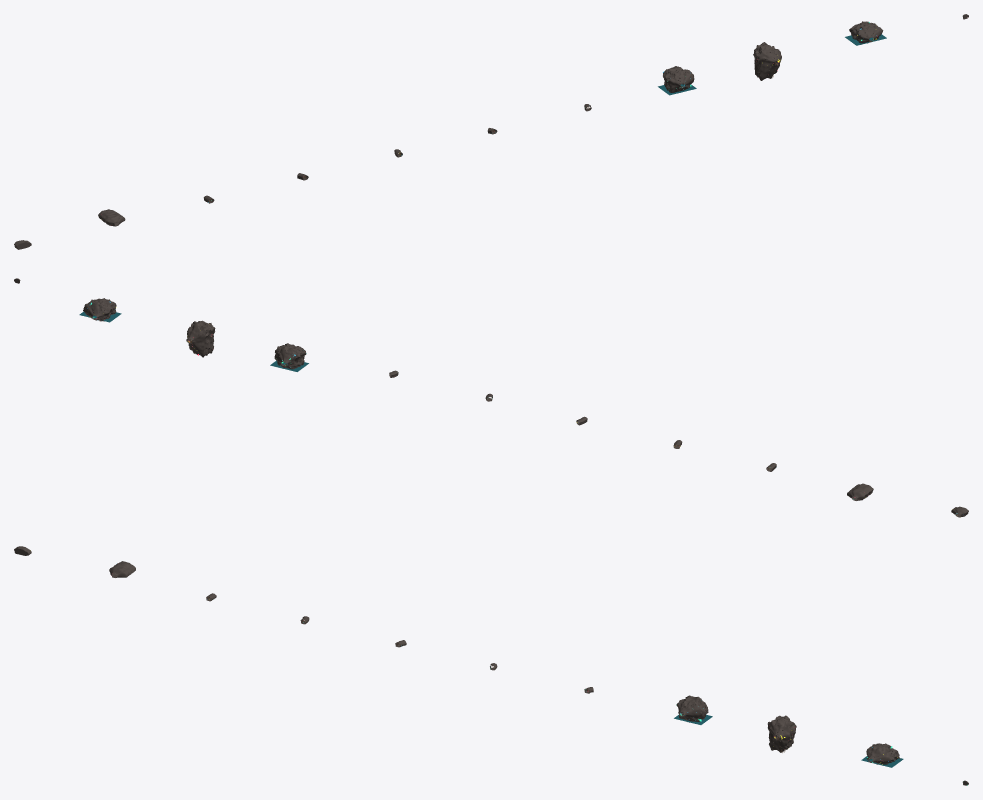
The model's file is LastCartDown_CaveKit.glb.
The picture shows the model from 3 angles, top to bottom: view 1: azimuth 30°, elevation 25°; view 2: azimuth 150°, elevation 25°; view 3: azimuth 330°, elevation 25°; orthographic projection.
Visible parts, largest first — view 1: Cavern_Chasm__Rock, Cavern_Lake__Rock, Cavern_Garden__Rock; view 2: Cavern_Chasm__Rock, Cavern_Lake__Rock, Cavern_Garden__Rock; view 3: Cavern_Chasm__Rock, Cavern_Lake__Rock, Cavern_Garden__Rock.
Part boxes in pixels (<box>): Cavern_Chasm__Rock: <box>753,42,781,80</box>; Cavern_Lake__Rock: <box>663,66,694,92</box>; Cavern_Garden__Rock: <box>849,21,883,43</box>; Cavern_Chasm__Rock: <box>186,320,215,357</box>; Cavern_Lake__Rock: <box>274,343,306,369</box>; Cavern_Garden__Rock: <box>83,298,116,321</box>; Cavern_Chasm__Rock: <box>767,715,796,752</box>; Cavern_Lake__Rock: <box>676,695,708,722</box>; Cavern_Garden__Rock: <box>866,743,899,764</box>.
Bounding box in the file's own units: 7065 × 237 × 226.
